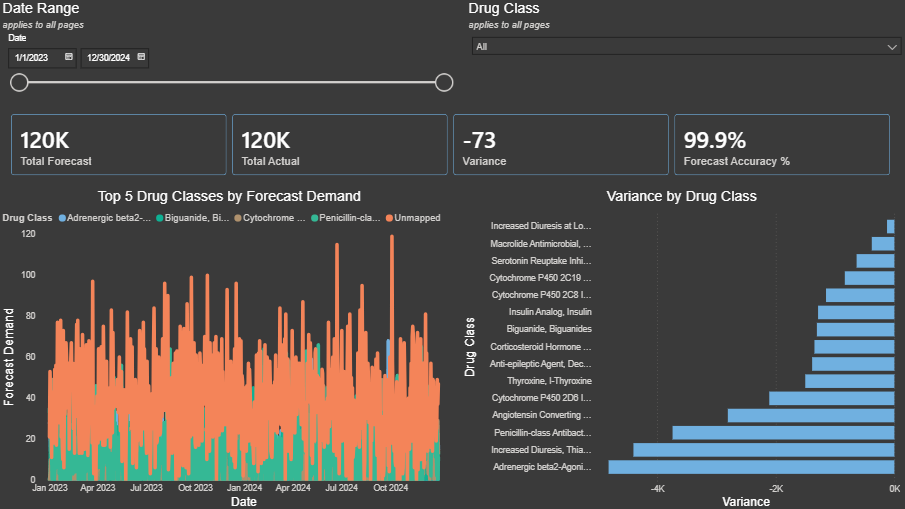

This screenshot's page, from the dashboard's own definition file:
{"tool":"powerbi","page":{"name":"Forecast Analysis","canvas":[1280,720],"ordinal":1},"visuals":[{"type":"slicer","title":"Date Range","fields":{"Values":["date_table.Date"]},"box":[0,0,648,144],"z":0,"group":"g1"},{"type":"lineChart","title":"Top 5 Drug Classes by Forecast Demand","fields":{"Category":["date_table.Date"],"Y":["date_table.Forecast Demand"],"Series":["Dim_DrugClass.pharm_classes"]},"box":[0,264,648,456],"z":0},{"type":"slicer","title":"Drug Class","fields":{"Values":["Dim_DrugClass.pharm_classes"]},"box":[656,0,624,144],"z":1000,"group":"g1"},{"type":"cardVisual","title":"Totals","fields":{"Data":["date_table.Total Forecast","date_table.Actual Prescriptions","Dim_DrugClass.Variance","Dim_DrugClass.Forecast Accuracy %"]},"box":[0,144,1272,120],"z":1000},{"type":"clusteredBarChart","fields":{"Y":["Dim_DrugClass.Variance"],"Category":["Dim_DrugClass.pharm_classes"]},"box":[648,264,624,456],"z":2000},{"type":"group","id":"g1","title":"Group 1","box":[0,0,1280,144],"z":3000}]}

Visuals, with their boxes in screenshot pixels (x1, y1, x2, y2), scaled from the page's 1280x720 canvas onto the 905x509 screenshot:
"Date Range" slicer: 0,0,458,102
"Top 5 Drug Classes by Forecast Demand" lineChart: 0,187,458,508
"Drug Class" slicer: 464,0,904,102
"Totals" cardVisual: 0,102,899,187
clusteredBarChart - Dim_DrugClass.Variance x Dim_DrugClass.pharm_classes: 458,187,899,508
"Group 1" group: 0,0,904,102
